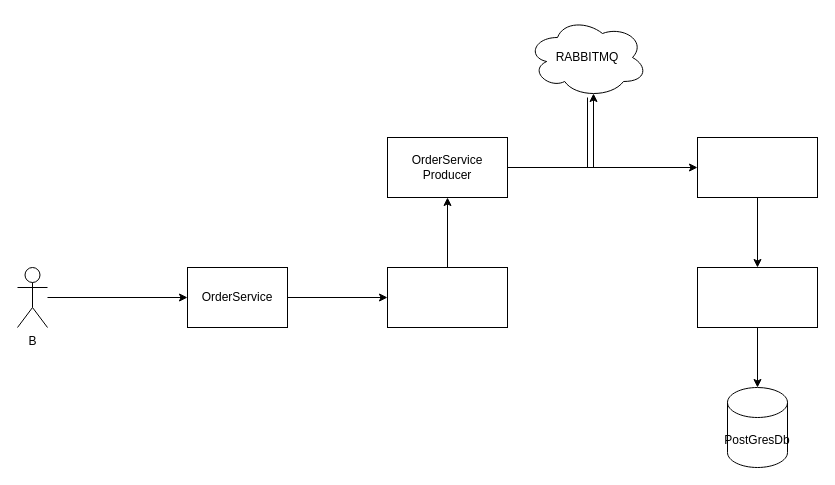
This 835x485 diagram has some shape labels left out. The shapes that lost their labels are listed below. From the top down, each one's centre as x and y in pixels, then its label:
At [757,167]: "OrderService Consumer".
At [447,297]: "OrderService Controller".
At [757,297]: "OrderService Service".
